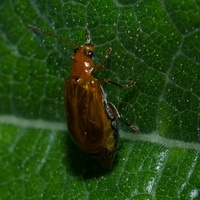insect: (27, 24, 137, 168)
